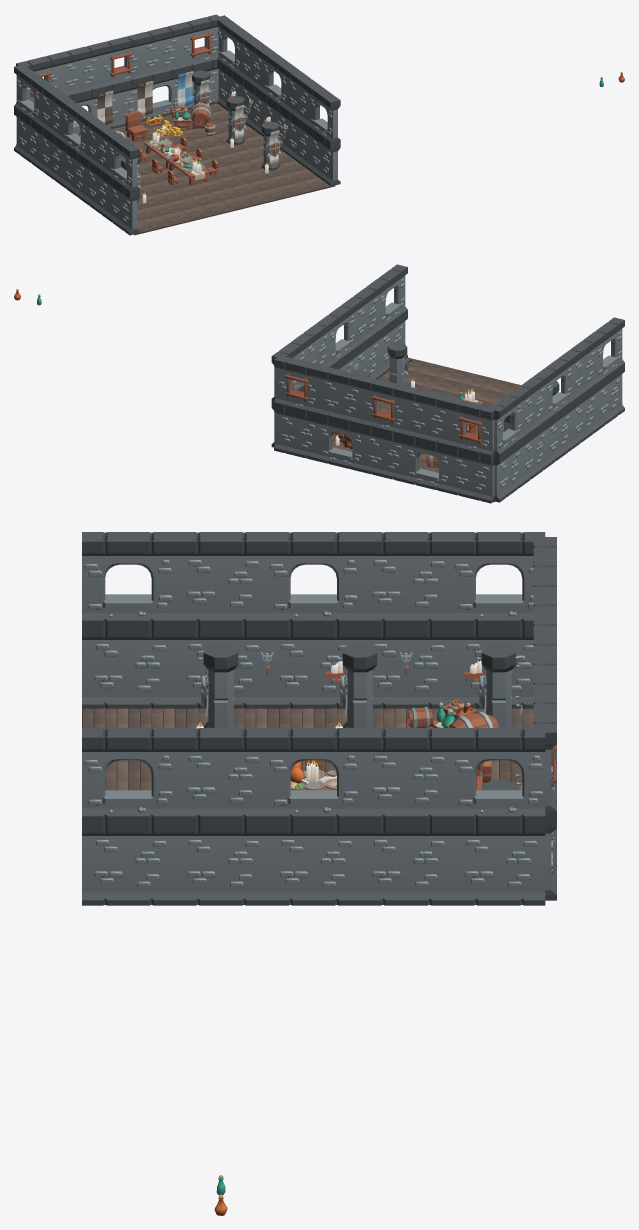
Rendered from zaal.glb.
3 renders of one model, top to bottom at view 1: azimuth 30°, elevation 25°; view 2: azimuth 150°, elevation 25°; view 3: azimuth 270°, elevation 25°, orthographic. The views are drawn at different scales.
Visible parts, largest first — view 1: wall.003, wall.001, wall_window_open.001, wall_window_open.002, wall_archedwindow_open.002, wall_archedwindow_open.003, wall.005, wall.006, wall.009, wall.015, wall.016, wall.010 (+40 smaller); view 2: wall.001, wall_window_open, wall.003, wall_window_open.001, wall_window_open.002, wall, wall.002, wall.004, wall_archedwindow_open, wall_archedwindow_open.001, wall_archedwindow_open.006, wall.009 (+19 smaller); view 3: wall.009, wall.010, wall.015, wall.016, wall.008, wall.018, wall.006, wall.012, wall.014, wall.005, wall_archedwindow_open.007, wall_archedwindow_open.002 (+22 smaller).
Part boxes in pixels (<box>): wall.003: <box>137,24,182,79</box>; wall.001: <box>56,44,102,97</box>; wall_window_open.001: <box>96,34,142,89</box>; wall_window_open.002: <box>177,14,220,70</box>; wall_archedwindow_open.002: <box>106,132,139,193</box>; wall_archedwindow_open.003: <box>307,83,340,144</box>; wall.005: <box>106,177,139,235</box>; wall.006: <box>307,128,340,186</box>; wall.009: <box>83,115,116,176</box>; wall.015: <box>37,81,69,142</box>; wall.016: <box>237,32,270,93</box>; wall.010: <box>284,66,316,127</box>; wall.001: <box>404,387,453,447</box>; wall_window_open: <box>447,397,494,457</box>; wall.003: <box>317,366,366,426</box>; wall_window_open.001: <box>360,376,409,436</box>; wall_window_open.002: <box>274,355,323,415</box>; wall: <box>447,447,494,503</box>; wall.002: <box>360,426,405,482</box>; wall.004: <box>274,405,318,460</box>; wall_archedwindow_open: <box>404,437,449,492</box>; wall_archedwindow_open.001: <box>317,416,362,471</box>; wall_archedwindow_open.006: <box>489,391,524,456</box>; wall.009: <box>564,335,599,401</box>; wall.009: <box>174,532,267,625</box>; wall.010: <box>174,728,267,821</box>; wall.015: <box>360,532,452,625</box>; wall.016: <box>360,728,452,821</box>; wall.008: <box>174,821,267,905</box>; wall.018: <box>452,821,545,905</box>; wall.006: <box>82,821,174,905</box>; wall.012: <box>267,821,359,905</box>; wall.014: <box>360,821,452,905</box>; wall.005: <box>82,625,174,708</box>; wall_archedwindow_open.007: <box>452,728,545,821</box>; wall_archedwindow_open.002: <box>82,532,174,625</box>.
Size of the model in its own units: 52.78 by 8.82 by 20.5.
Materials: 133 (133 with a texture image).
